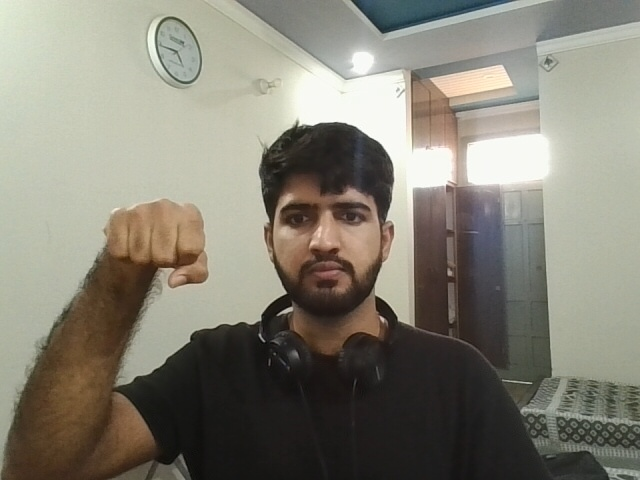Yes: (72, 168, 225, 306)
